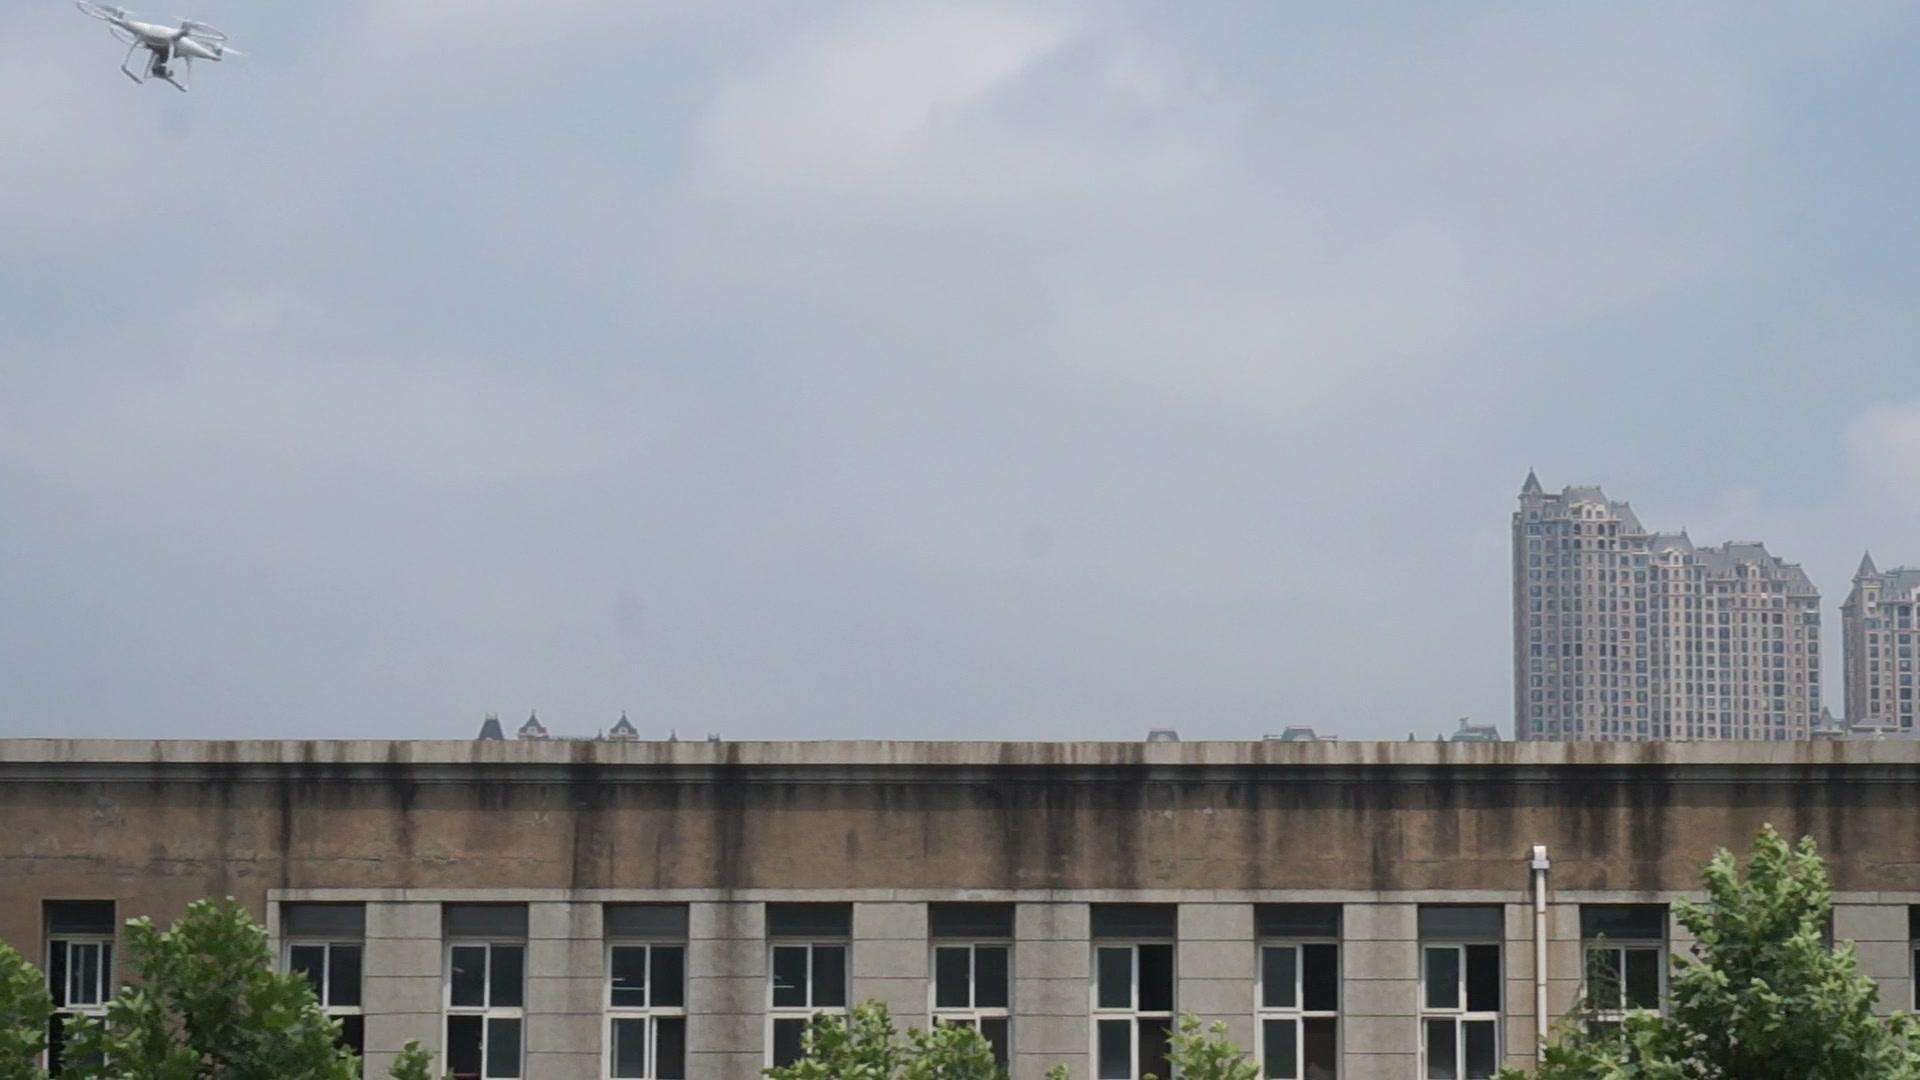UAV: (76, 1, 247, 94)
